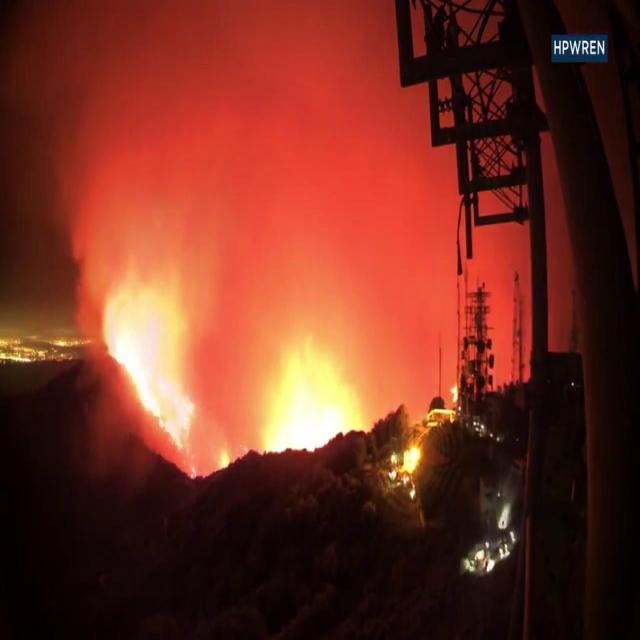Fire: (41, 15, 531, 441), (102, 268, 196, 455), (264, 329, 368, 463), (219, 450, 232, 468)
